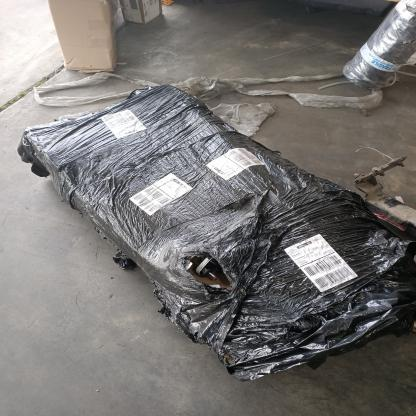label: (280, 237, 361, 295), (121, 173, 199, 218), (205, 146, 262, 179), (100, 110, 146, 139)
package: (19, 87, 415, 386)
